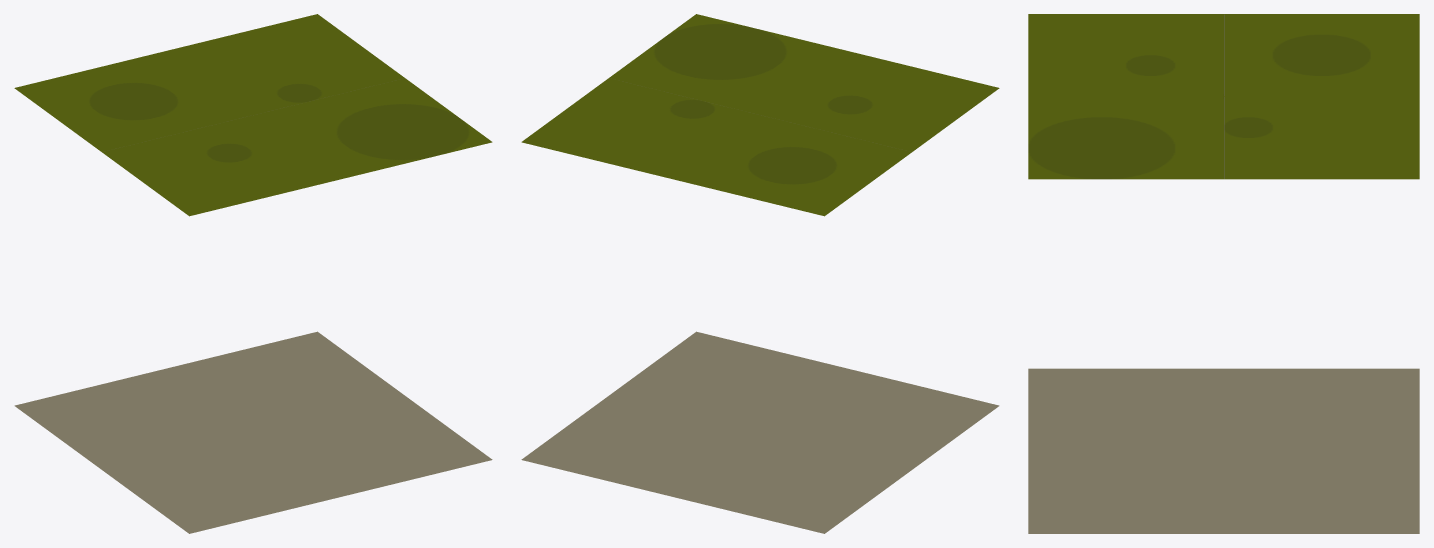
The model's file is ledge-flat.obj.
3 renders of one model, left to right at view 1: azimuth 30°, elevation 25°; view 2: azimuth 150°, elevation 25°; view 3: azimuth 270°, elevation 25°, orthographic. The views are drawn at different scales.
Visible parts, largest first — view 1: Cube.004; view 2: Cube.004; view 3: Cube.004.
Boxes of the visible parts, box(x1,y1,x2,y2) form: Cube.004: box(14, 14, 492, 533); Cube.004: box(521, 14, 999, 533); Cube.004: box(1028, 14, 1419, 533).
Bounding box in the file's own units: 64 × 64 × 64.
Materials: 1 (1 with a texture image).
